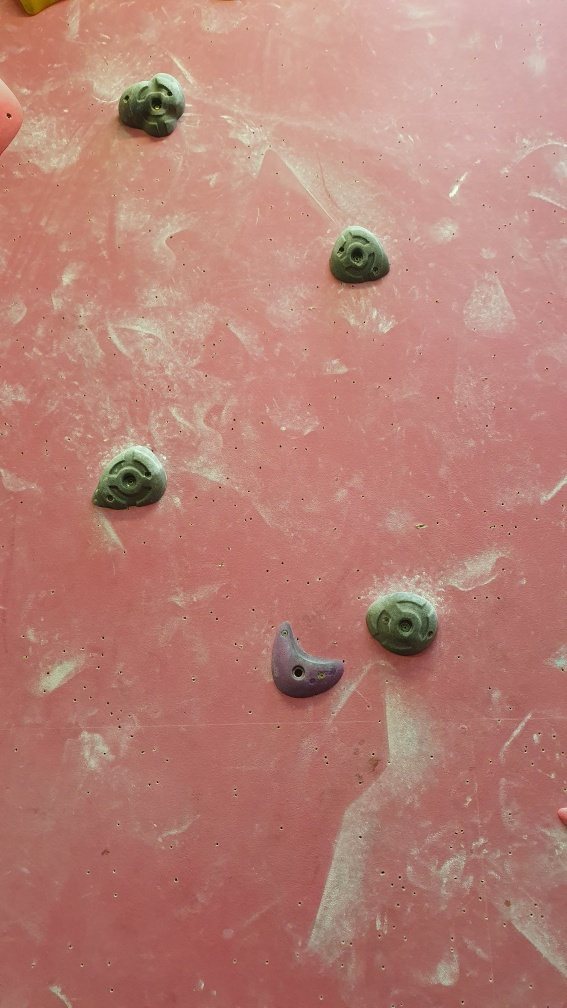Jug: (364, 587, 444, 659), (88, 442, 170, 512), (116, 70, 193, 143), (327, 220, 390, 289)
